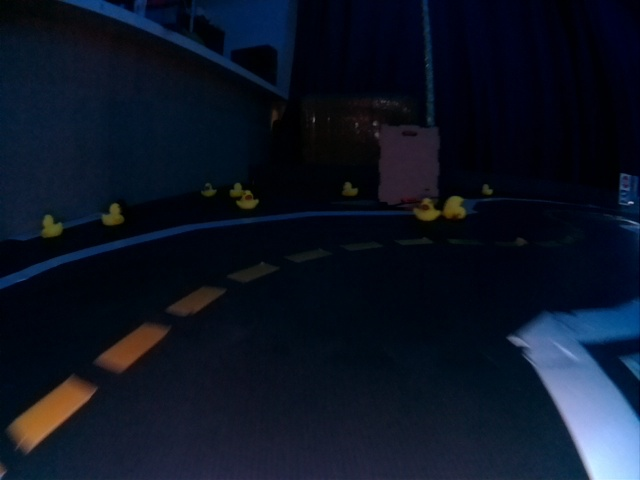Duckie: (445, 197, 465, 219), (101, 203, 123, 223), (415, 200, 438, 219), (40, 215, 61, 235), (236, 192, 257, 209), (230, 183, 243, 198), (343, 184, 359, 196), (202, 184, 214, 196)
